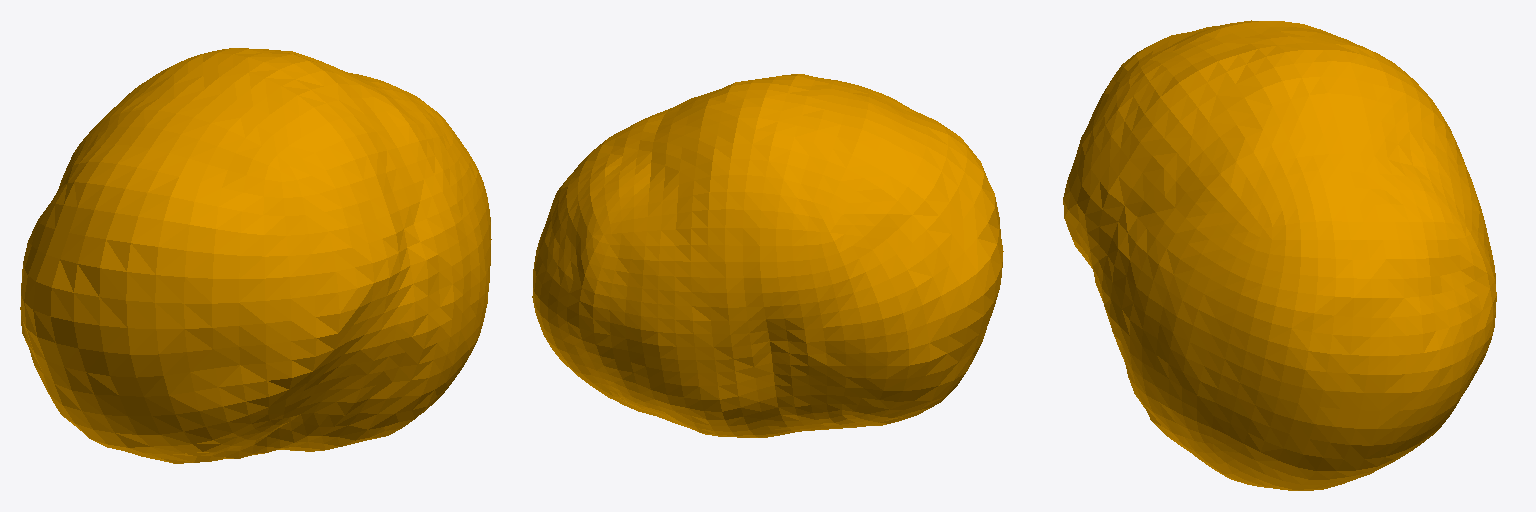
The robot description file, URDF, robot "rock":
<?xml version="1.0" ?>
<robot name="rock">
  <link name="rock">
    <inertial>
      <mass value="0.286"/>
      <origin rpy="0 0 0" xyz="0 0 0"/>
      <inertia ixx="0.000286" ixy="0" ixz="0" iyy="0.000286" iyz="0" izz="0.000286"/>
    </inertial>
    <collision name="rock_collision">
      <origin rpy="0 0 0" xyz="0 0 0"/>
      <geometry>
        <mesh filename="package://rocks/visual/226.dae" scale="1 1 1"/>
      </geometry>
    </collision>
    <visual name="rock_visual">
      <origin rpy="0 0 0" xyz="0 0 0"/>
      <geometry>
        <mesh filename="package://rocks/visual/226.dae" scale="1 1 1"/>
      </geometry>
    </visual>
  </link>
</robot>

--- What the picture shows (computed from the rendered views, not written in the file) ---
3 views of the same robot in one strip: view 1: azimuth 30°, elevation 25°; view 2: azimuth 150°, elevation 25°; view 3: azimuth 270°, elevation 25° (orthographic).
Model rock with 1 links and 0 joints (none), rooted at rock, posed every joint at zero.
Visible links, largest first — view 1: rock; view 2: rock; view 3: rock.
Link boxes in pixels (<box>): rock: <box>20,48,491,463</box>; rock: <box>532,74,1003,437</box>; rock: <box>1063,20,1496,490</box>.
Size in the robot's own frame: 0.0828 by 0.0662 by 0.0661 metres.
1 mesh visuals loaded from 1 distinct referenced files (1 Collada DAE).